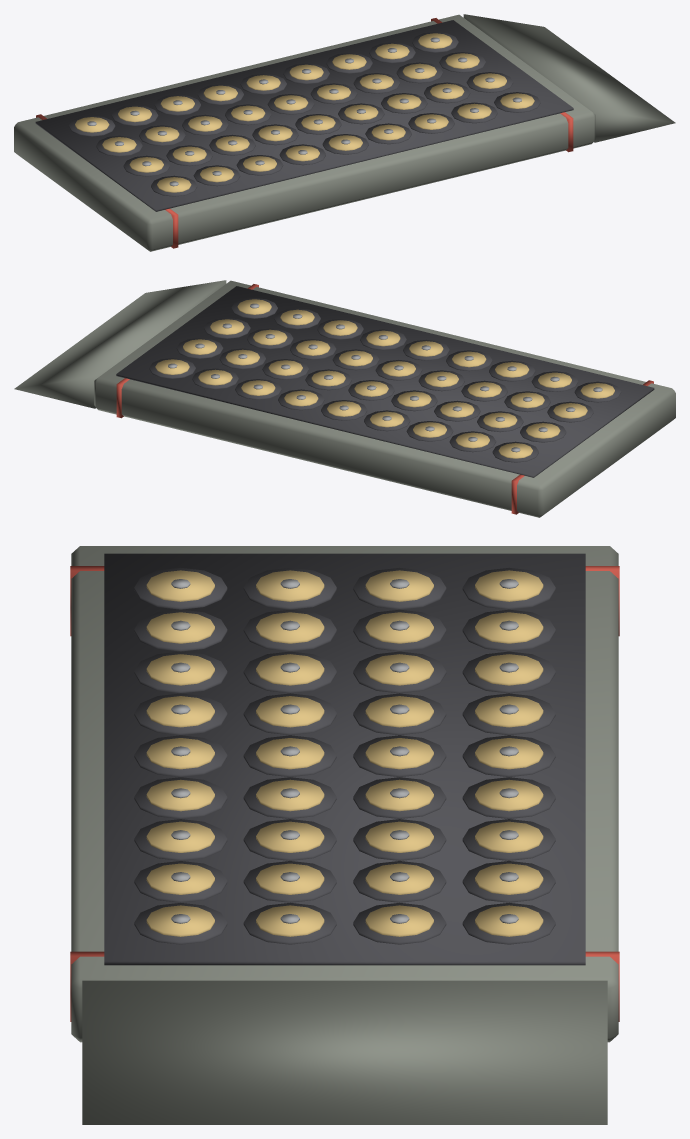
Rendered from flares_2.glb.
The picture shows the model from 3 angles, top to bottom: view 1: azimuth 30°, elevation 25°; view 2: azimuth 150°, elevation 25°; view 3: azimuth 270°, elevation 25°; orthographic projection. The views are drawn at different scales.
Parts seen in each view (by area): view 1: flares_2; view 2: flares_2; view 3: flares_2.
Boxes of the visible parts, box(x1,y1,x2,y2) form: flares_2: box(14, 14, 675, 251); flares_2: box(14, 280, 675, 517); flares_2: box(70, 546, 619, 1124).
Size of the model in its own units: 0.85 by 0.0586 by 0.3815.
